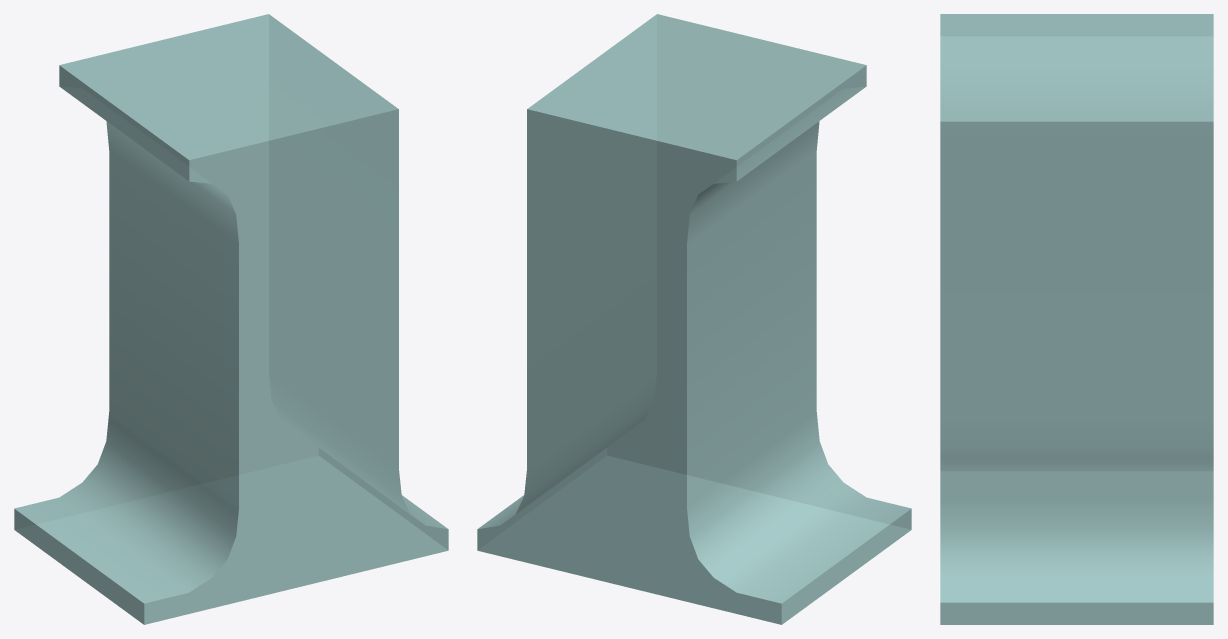
Rendered from original-14.obj.
3 renders of one model, left to right at view 1: azimuth 30°, elevation 25°; view 2: azimuth 150°, elevation 25°; view 3: azimuth 270°, elevation 25°, orthographic. The views are drawn at different scales.
Parts seen in each view (by area): view 1: mesh10/mesh10-geometry#mesh10-geometry; view 2: mesh10/mesh10-geometry#mesh10-geometry; view 3: mesh10/mesh10-geometry#mesh10-geometry.
Boxes of the visible parts, bbox=[...] form: mesh10/mesh10-geometry#mesh10-geometry: bbox=[14, 14, 448, 624]; mesh10/mesh10-geometry#mesh10-geometry: bbox=[477, 14, 911, 624]; mesh10/mesh10-geometry#mesh10-geometry: bbox=[940, 14, 1213, 624].
Size of the model in its own units: 0.00442 by 0.0063 by 0.00327.
